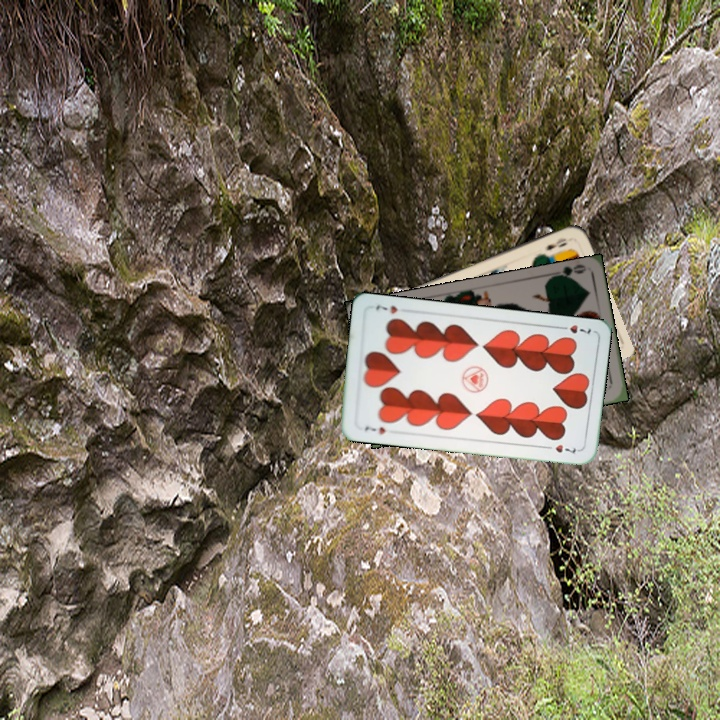EO: (542, 234, 570, 253)
GO: (547, 261, 587, 283)
H7: (554, 321, 594, 336), (360, 422, 389, 437)
